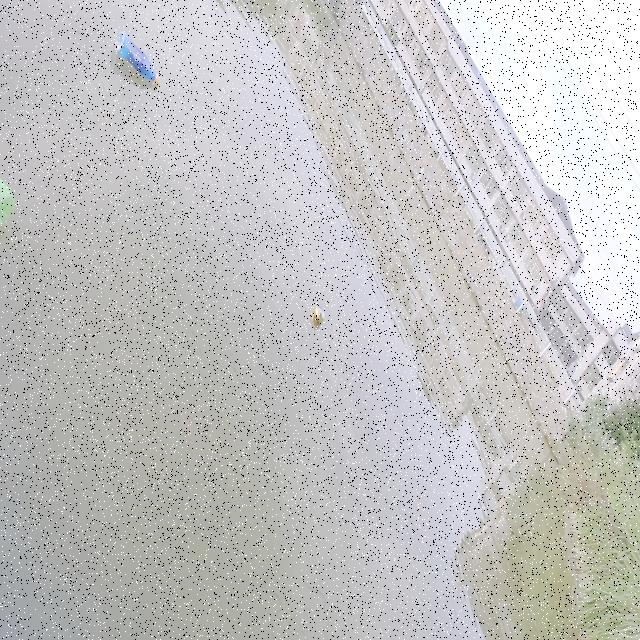Bottle: (112, 27, 164, 90)
Can: (306, 290, 327, 334)
